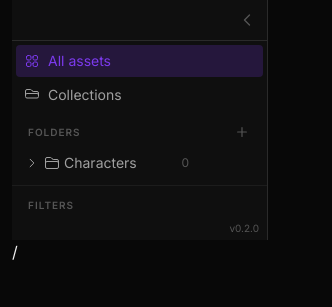
Test: MainSidebar integration › caches children across collapse/re-expand (no refetch)
Expected: the text "Characters" is shown, x1=64 y1=154 x2=137 y2=171
Note: Expand → children fetched
What coordinates should you click on to do the following:
click the button named "Expand"
I would click on:
 (32, 163)
Its box is x1=24 y1=155 x2=40 y2=171.
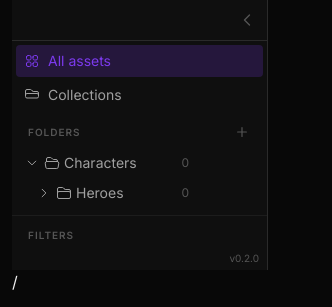
Expected: the text "Heroes" is shown, x1=76 y1=184 x2=124 y2=201
Note: Collapse, re-expand → served from cache
What coordinates should you click on to do the following:
click the button named "Collapse"
I would click on:
 (32, 163)
Its box is x1=24 y1=155 x2=40 y2=171.
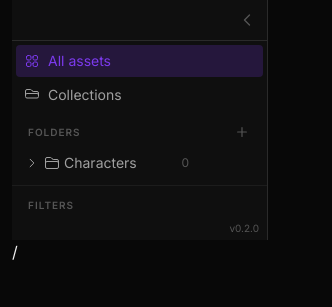
Expected: the text "Heroes" is gone
What coordinates should you click on to do the following:
click the button named "Expand"
I would click on:
 (32, 163)
Its box is x1=24 y1=155 x2=40 y2=171.
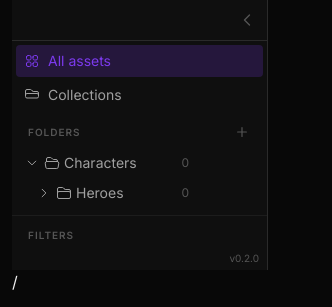
Expected: the text "Heroes" is shown, x1=76 y1=184 x2=124 y2=201
